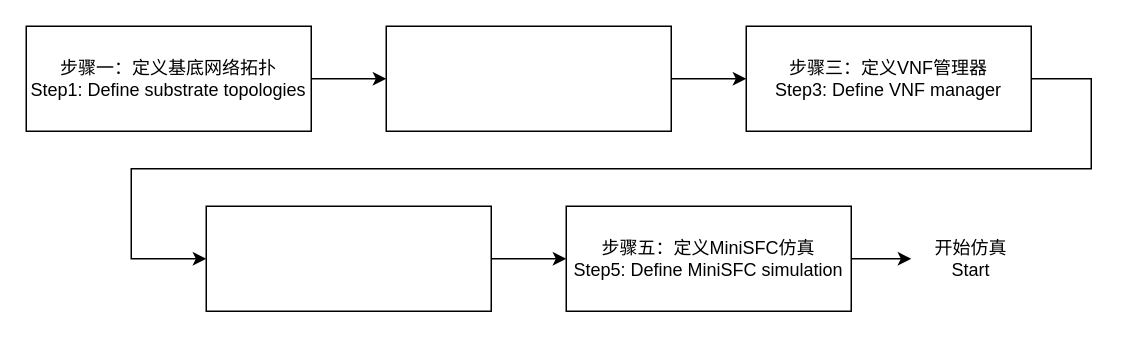
Image size: 1130x338. Some labels were removed from this diagram. The shapes that lost their labels are listed below. From the top down, each one's centre as x and y in pixels, then its label:
At pixel 528 78: "步骤二：定义SFC拓扑 Step2: Define SFC topologies".
At pixel 348 258: "步骤四：定义SFC部署求解器 Step4: Define SFC solver".
